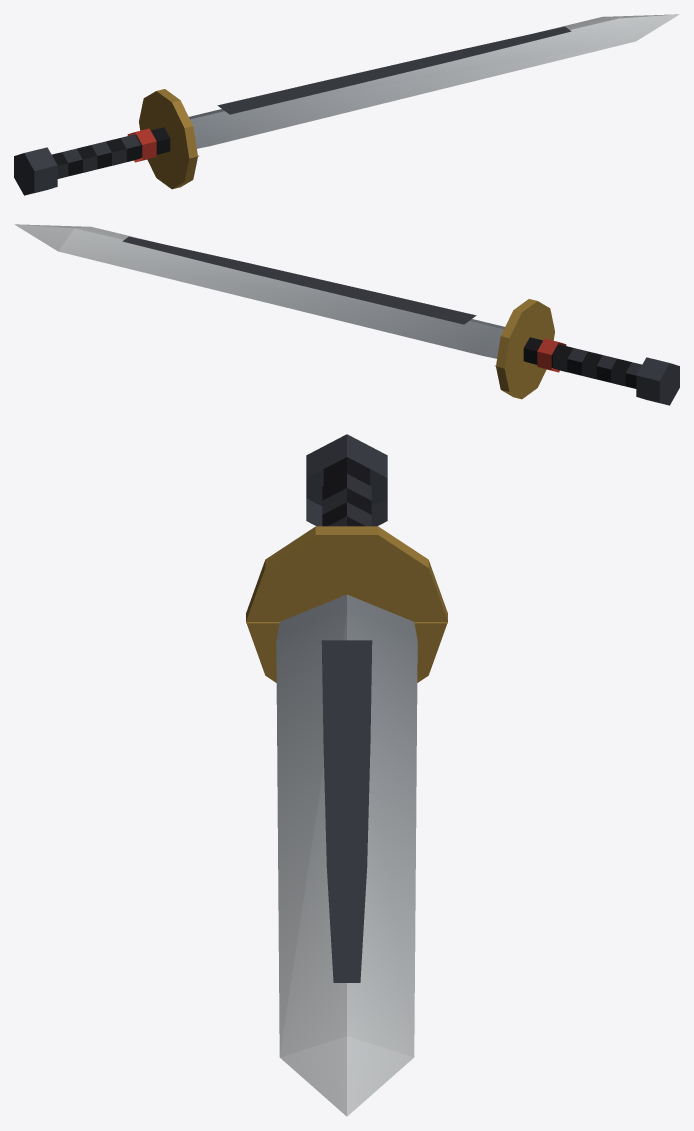
File: sword.glb
3 renders of one model, top to bottom at view 1: azimuth 30°, elevation 25°; view 2: azimuth 150°, elevation 25°; view 3: azimuth 270°, elevation 25°, orthographic. The views are drawn at different scales.
Visible parts, largest first — view 1: sword; view 2: sword; view 3: sword.
Part boxes in pixels (x1,y1,x2,y2): sword: [14, 14, 679, 195]; sword: [14, 224, 679, 405]; sword: [246, 434, 447, 1116].
Size of the model in its own units: 45 by 5.71 by 6.
